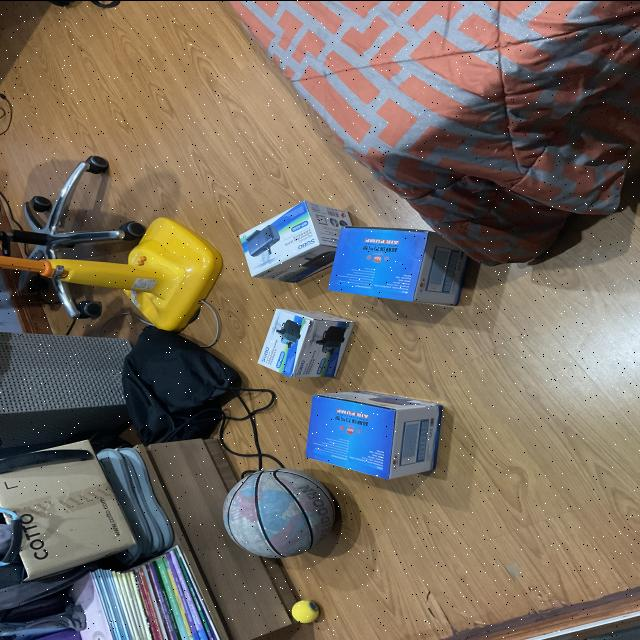SOBO_WP_4200: (231, 183, 363, 289), (242, 300, 358, 380)
YAMANO_LPP_20: (318, 205, 516, 308), (297, 384, 453, 484)
